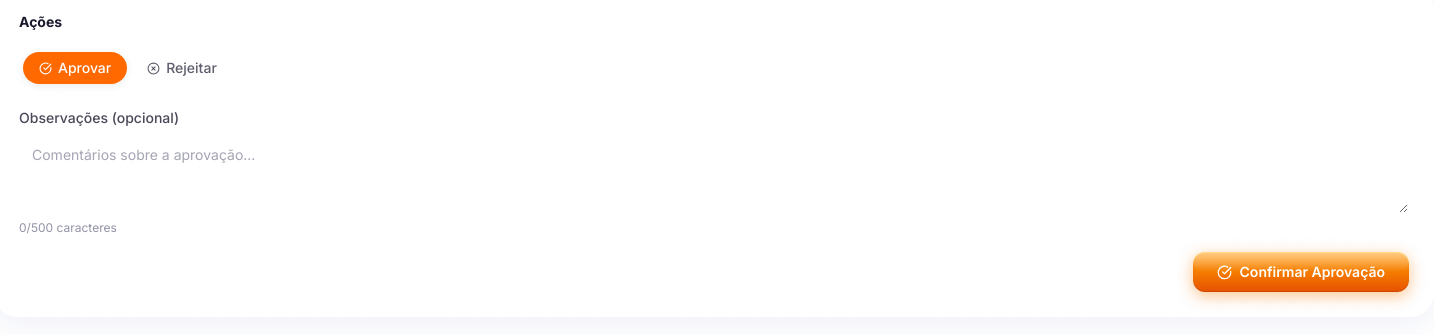
Test: ApprovalForm › reject form validation › shows error when reject motivo is too short (< 10 chars)
The image size is (1434, 335).
Click the button "Rejeitar" at [182, 68], box [131,52,233,84]
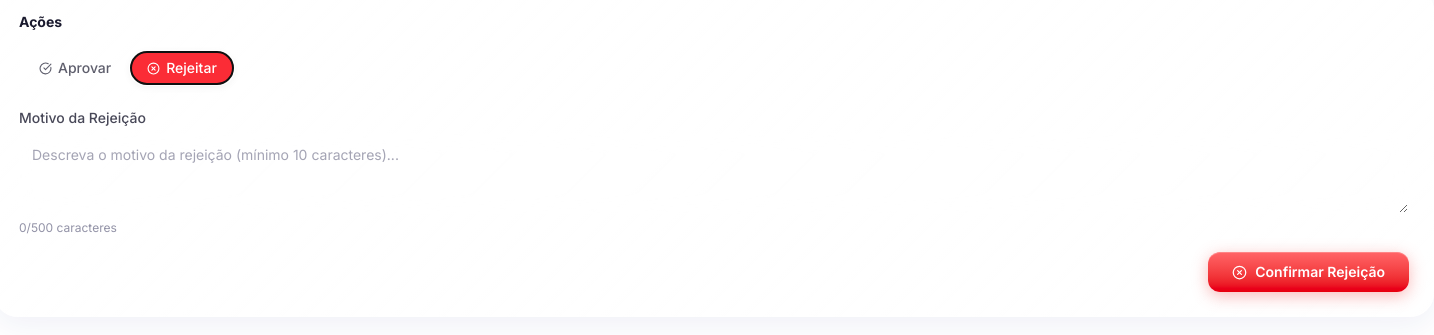
Type "Curto" into the text box with placeholder "Descreva o motivo da rejeição (mínimo 10 caracteres)..." at [714, 174], box [19,134,1409,214]
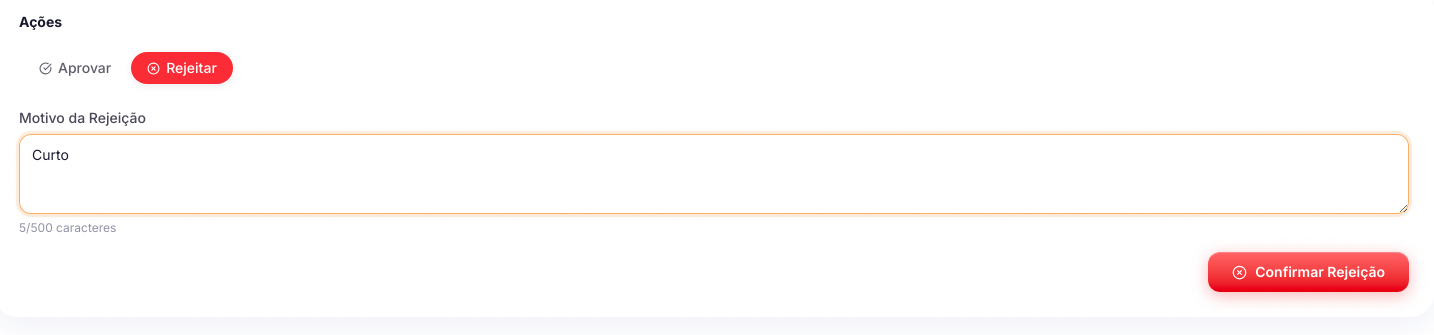
Click the button "Confirmar Rejeição" at [1309, 272], box [1208,252,1409,292]
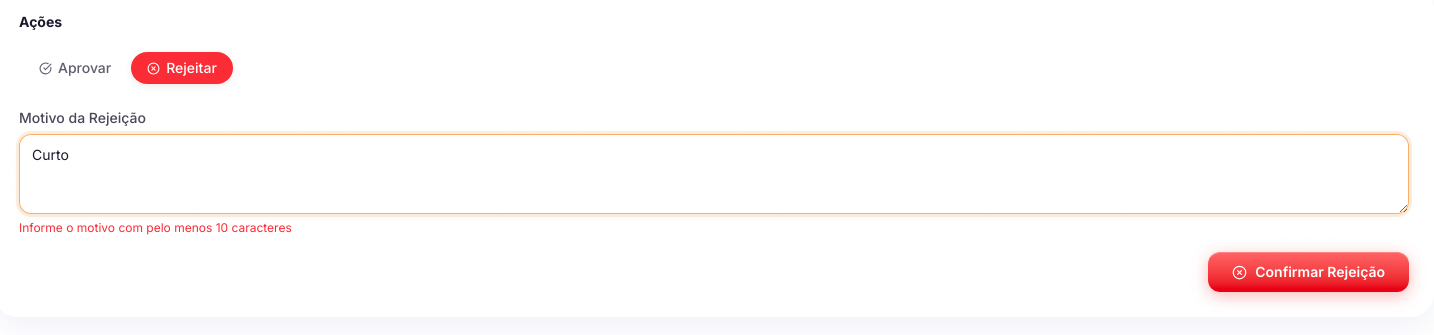
Expected: the text "Informe o motivo com pelo menos 10 caracteres" is shown, [19,220,292,235]
